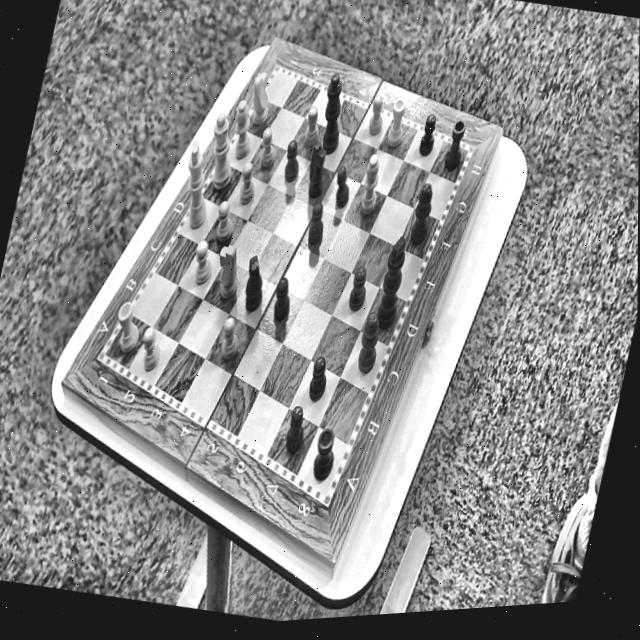chessboard: (105, 71, 468, 494)
